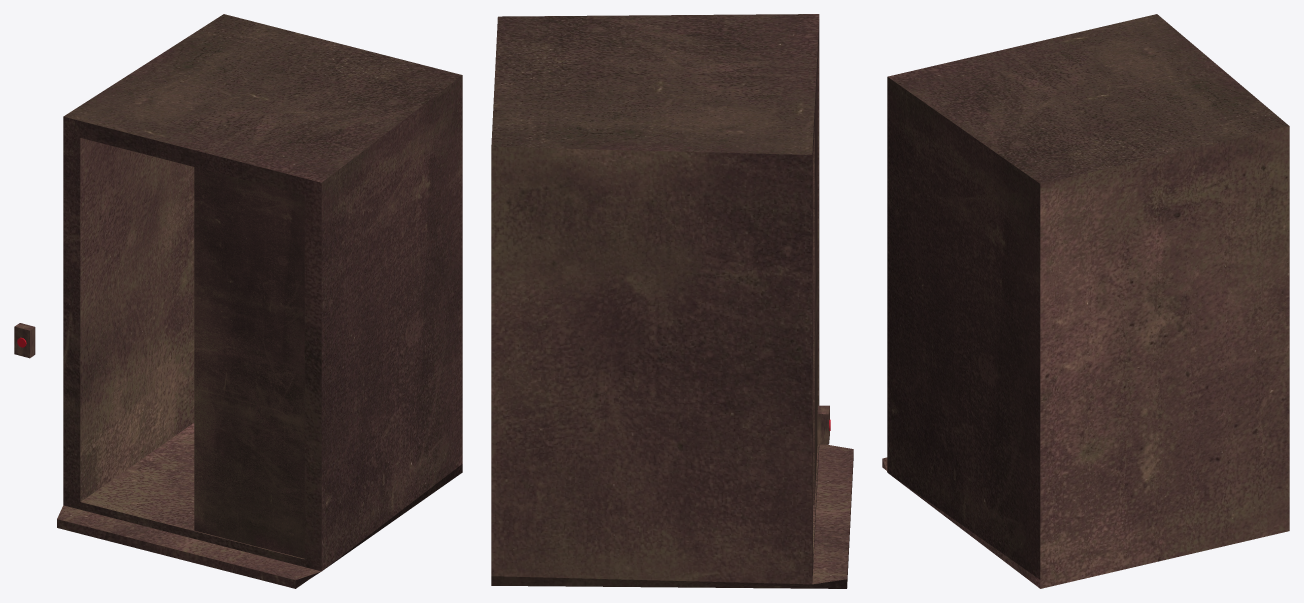
The model's file is elevator.fbx.
3 renders of one model, left to right at view 1: azimuth 30°, elevation 25°; view 2: azimuth 150°, elevation 25°; view 3: azimuth 270°, elevation 25°, orthographic. The views are drawn at different scales.
Visible parts, largest first — view 1: elevator-shell, door, button-box; view 2: elevator-shell, door, button-box; view 3: elevator-shell.
Boxes of the visible parts, <box> form: elevator-shell: <box>57,14,462,588</box>; door: <box>194,167,304,558</box>; button-box: <box>14,323,35,358</box>; elevator-shell: <box>491,14,853,588</box>; door: <box>813,71,817,504</box>; button-box: <box>817,405,830,444</box>; elevator-shell: <box>882,14,1289,588</box>.
Bounding box in the file's own units: 245 × 249 × 227.
